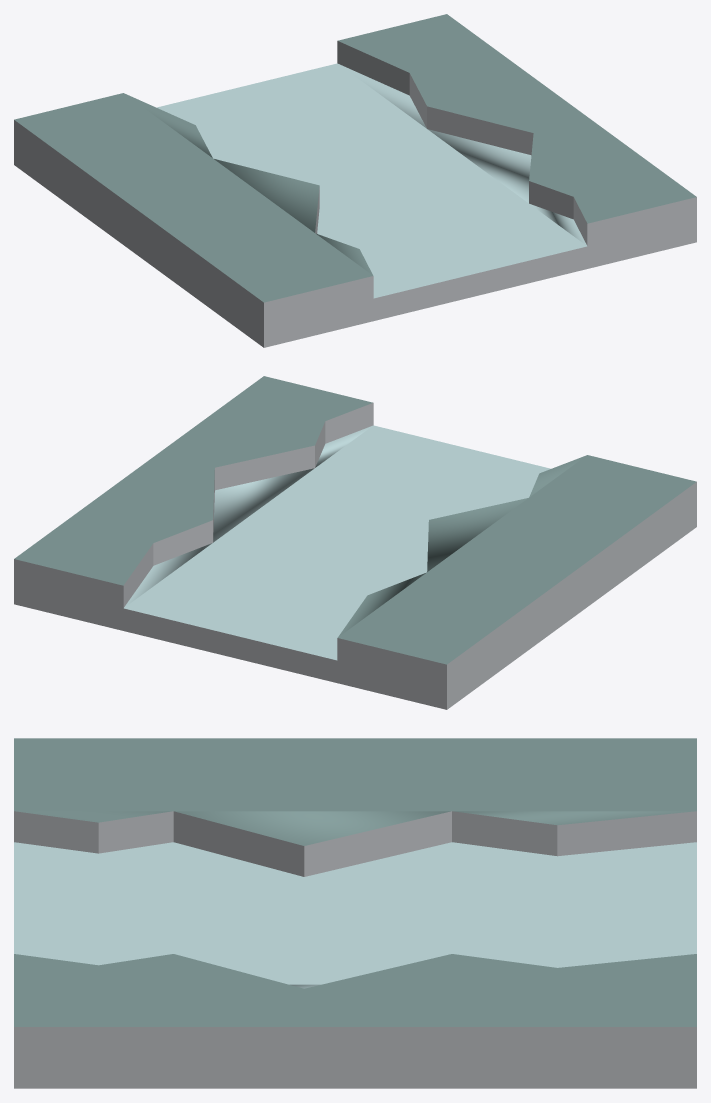
File: Nature River 6.fbx
3 renders of one model, top to bottom at view 1: azimuth 30°, elevation 25°; view 2: azimuth 150°, elevation 25°; view 3: azimuth 270°, elevation 25°, orthographic. The views are drawn at different scales.
Parts seen in each view (by area): view 1: Nature River 6; view 2: Nature River 6; view 3: Nature River 6.
Boxes of the visible parts, x1=… form: Nature River 6: x1=14, y1=14, x2=696, y2=347; Nature River 6: x1=14, y1=376, x2=696, y2=709; Nature River 6: x1=14, y1=738, x2=696, y2=1088.
Size of the model in its own units: 3 by 0.3 by 3.
